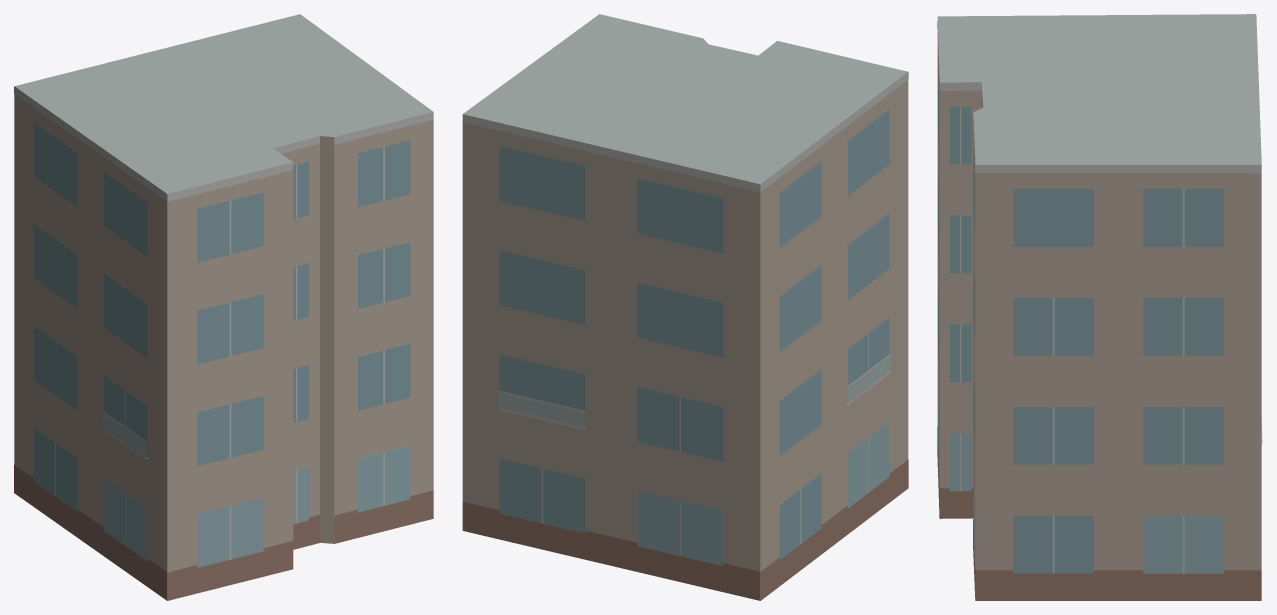
The model's file is survey-upis-32558301.glb.
3 renders of one model, left to right at view 1: azimuth 30°, elevation 25°; view 2: azimuth 150°, elevation 25°; view 3: azimuth 270°, elevation 25°, orthographic. The views are drawn at different scales.
Parts seen in each view (by area): view 1: survey-upis-32558301.tmp; view 2: survey-upis-32558301.tmp; view 3: survey-upis-32558301.tmp.
Part boxes in pixels (x1,y1,x2,y2): survey-upis-32558301.tmp: (14, 14, 433, 600); survey-upis-32558301.tmp: (462, 14, 908, 600); survey-upis-32558301.tmp: (937, 14, 1262, 600).
Size of the model in its own units: 9.51 by 12.8 by 8.66.
